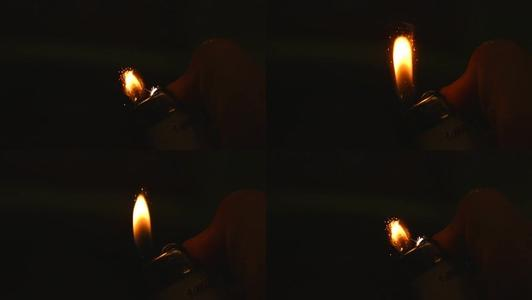fire: (385, 29, 424, 104), (120, 178, 157, 246), (113, 62, 150, 110), (382, 217, 412, 255)
